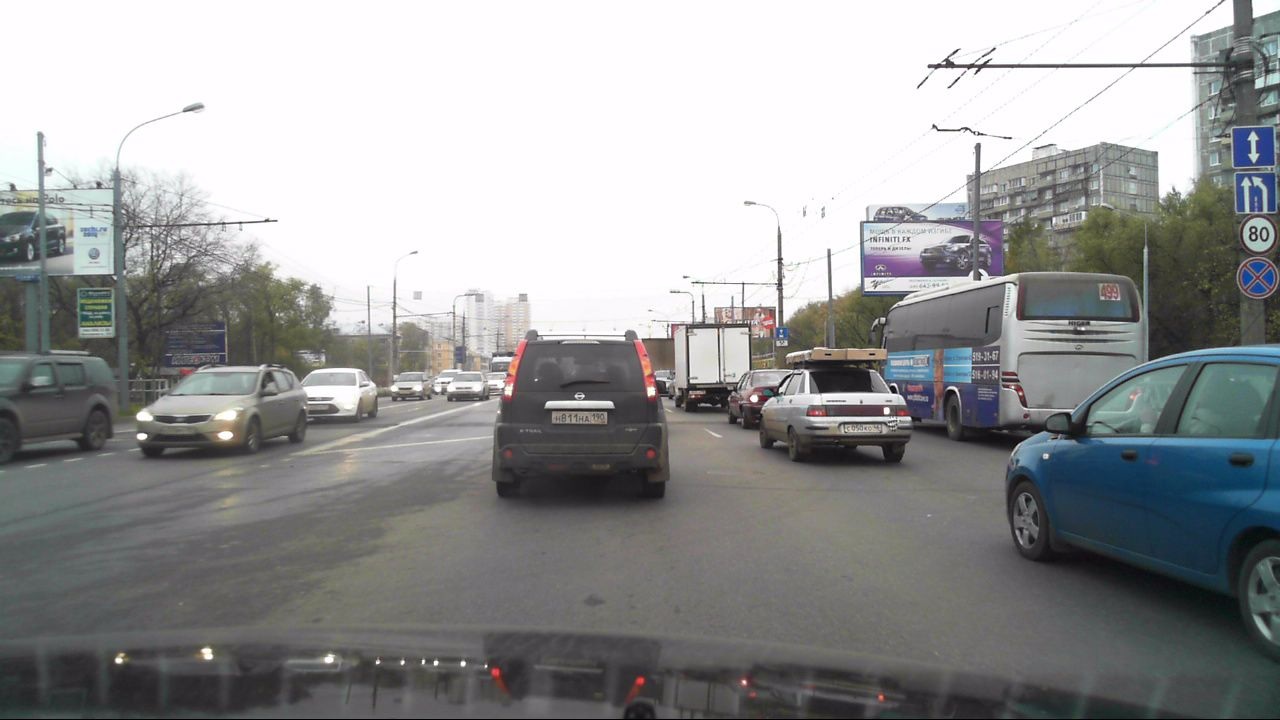No Parking: (1236, 257, 1278, 300)
